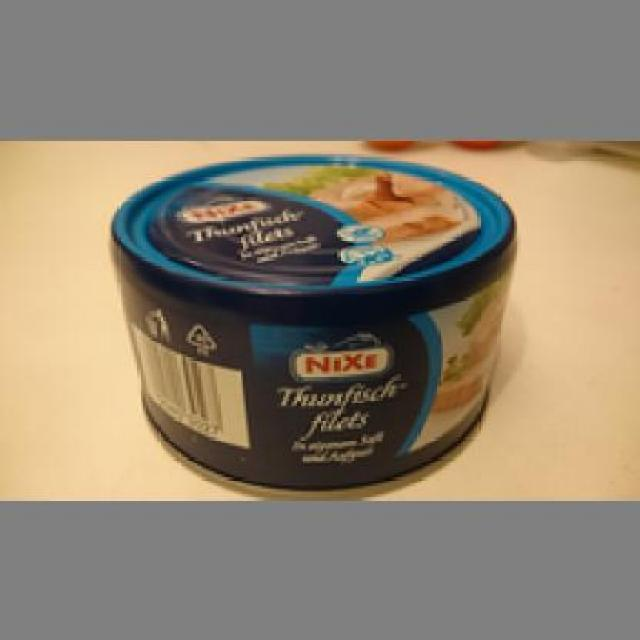Fish: (106, 152, 514, 494)
